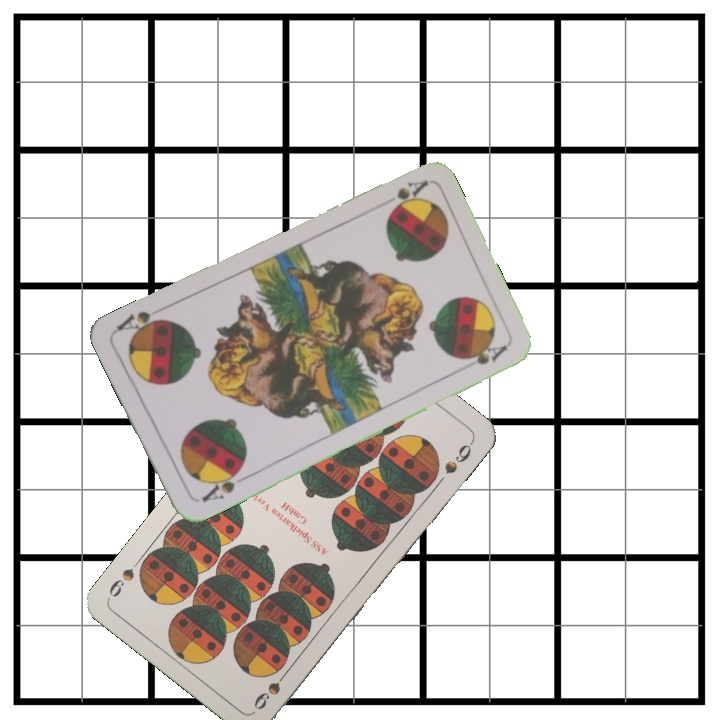S9: (249, 663, 293, 713)
SA: (374, 176, 430, 216), (197, 464, 250, 505)
